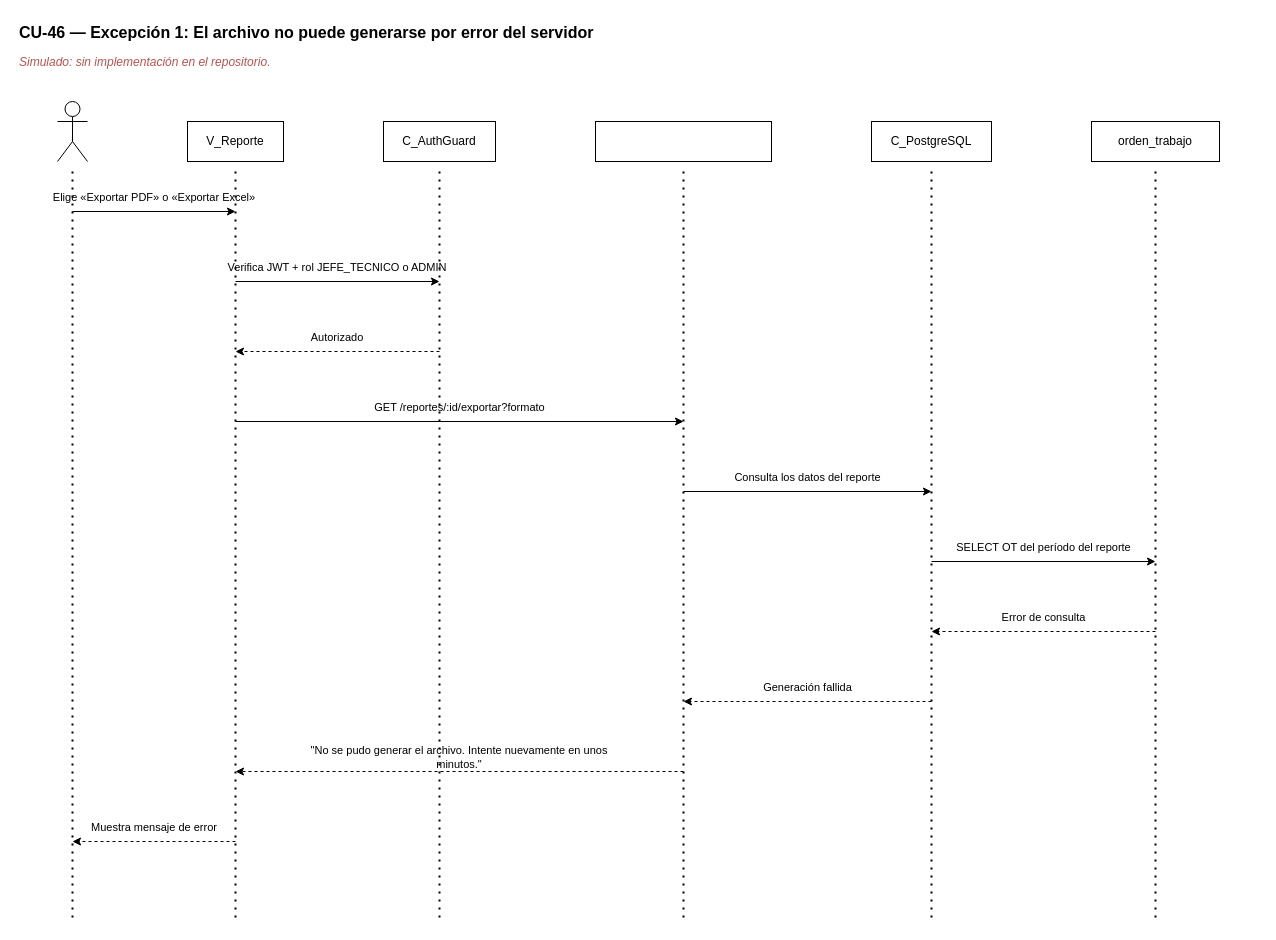
This 1276x940 diagram has some shape labels left out. The centre of each missing label's shape, as x and y in pixels:
"C_ReporteController" belongs at point (683, 141).
"Usuario" belongs at point (72, 131).
